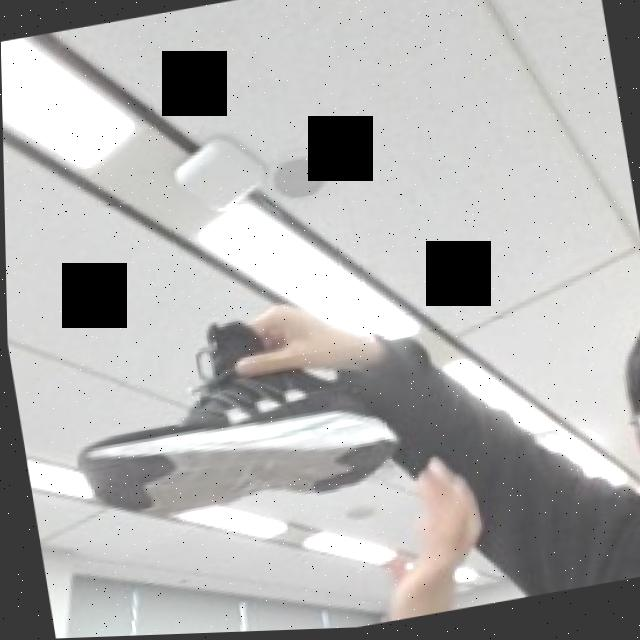shoe: (55, 287, 406, 535)
